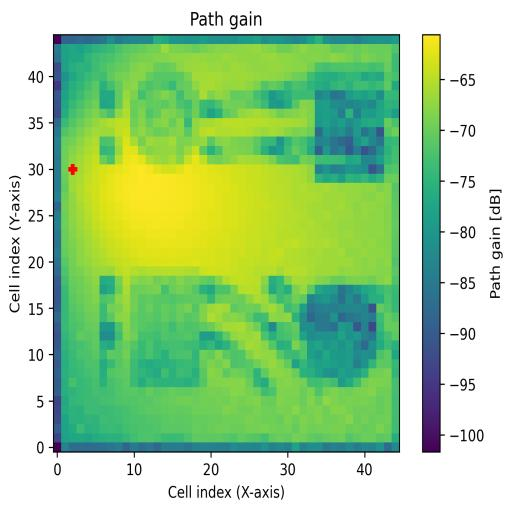Concrete: (314, 62, 384, 184)
Glass: (130, 62, 200, 164)
Metal: (292, 285, 386, 387)
Wood: (130, 276, 208, 387)
